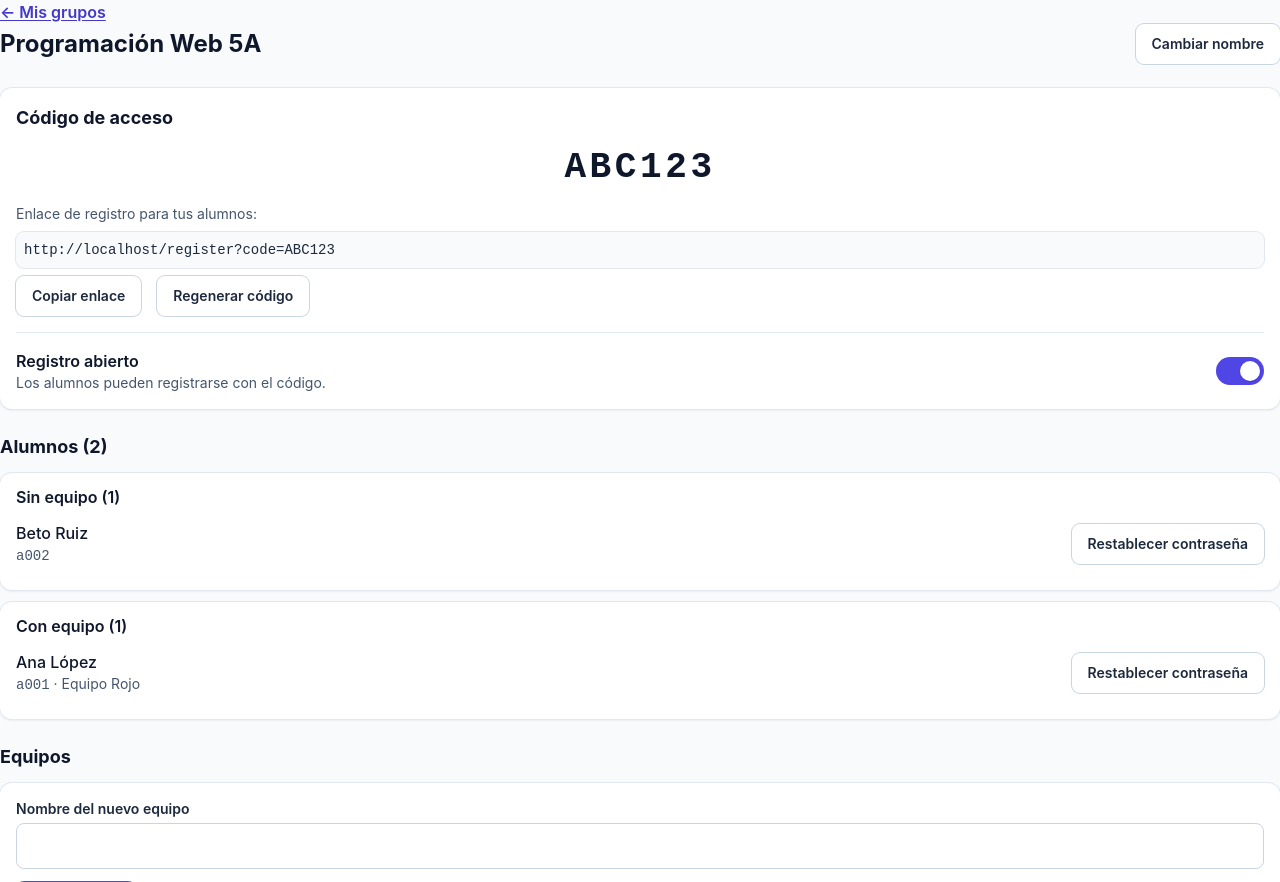
GroupDetailPage › regenerates the code only after confirming in the app
Click the button "Regenerar código" at {"x": 233, "y": 296}, box [157,276,309,316]
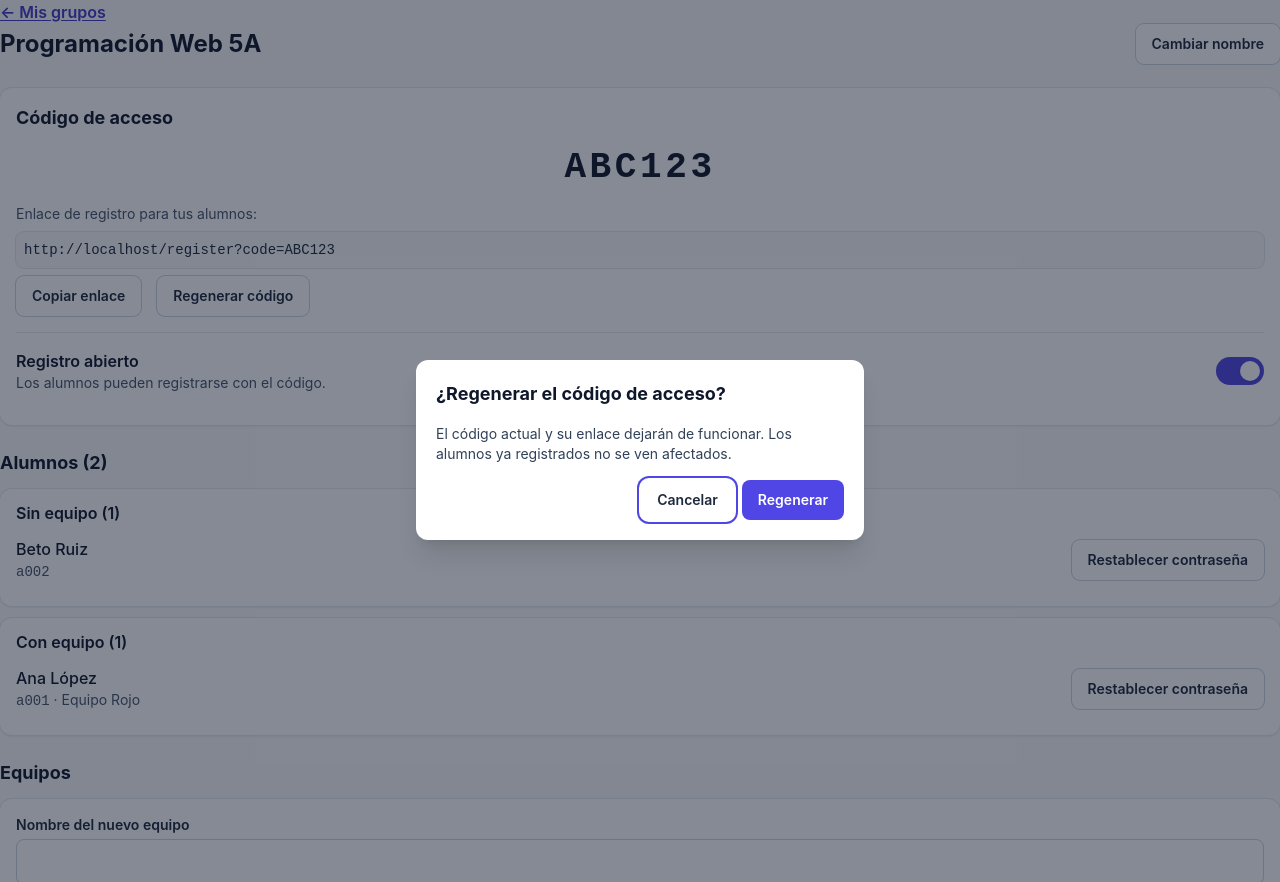
Click the button "Regenerar" at {"x": 793, "y": 500}, box [742,480,844,520]
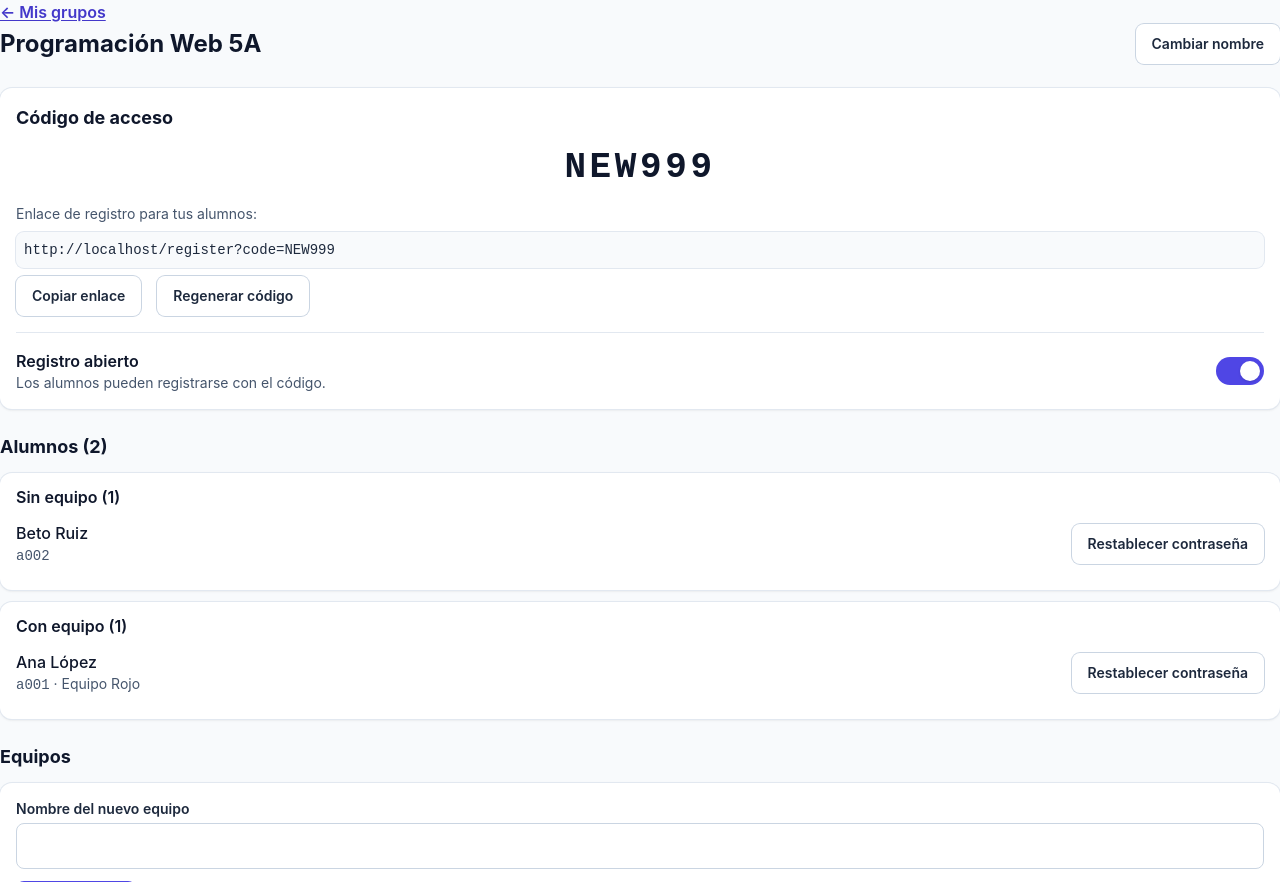
Check: the text "NEW999" is shown, box [564,147,716,188]
Check: the dialog is gone
